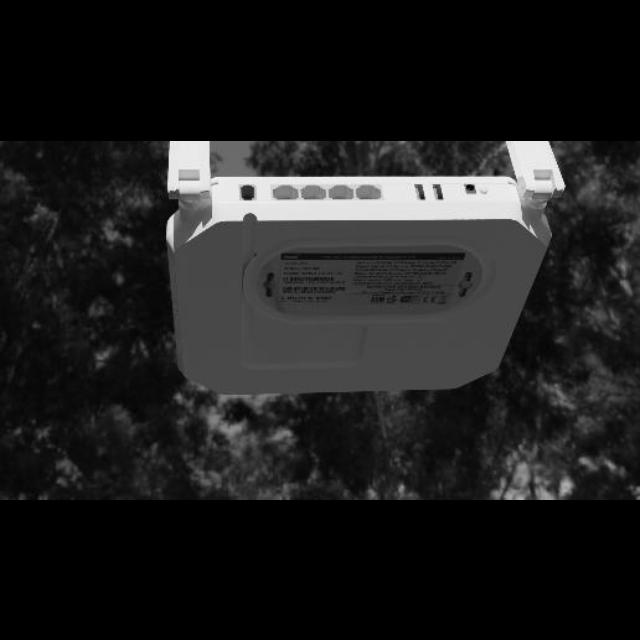Router: (161, 140, 571, 410)
